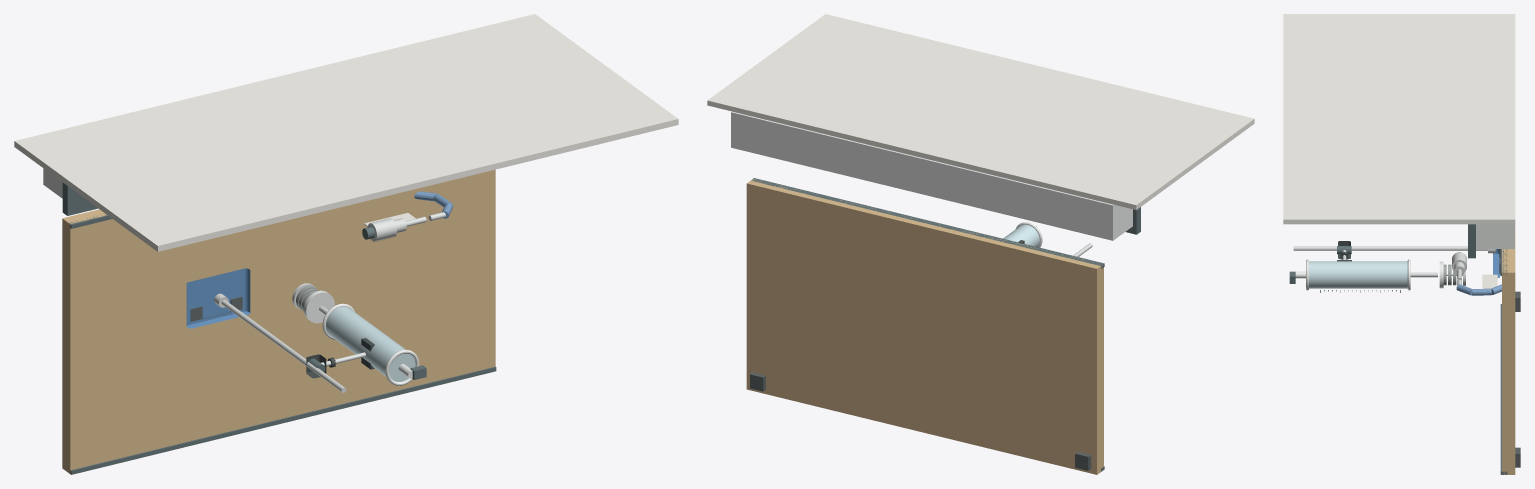
Rendered from rp08-boyle-syringe.glb.
3 renders of one model, left to right at view 1: azimuth 30°, elevation 25°; view 2: azimuth 150°, elevation 25°; view 3: azimuth 270°, elevation 25°, orthographic. The views are drawn at different scales.
Parts seen in each view (by area): view 1: Laboratory bench laminate, Laboratory background wall, Gas syringe transparent barrel, Boyle stand blue base, Laboratory bench dark edge, Boyle stand vertical rod, Syringe plunger flange; view 2: Laboratory bench laminate, Laboratory background wall, Laboratory background cabinet carcass, Laboratory bench rear edge; view 3: Laboratory background wall, Laboratory bench laminate, Gas syringe transparent barrel, Laboratory background cabinet carcass, Boyle stand vertical rod, Laboratory bench dark edge, Laboratory background worktop.
Part boxes in pixels (box(x1,y1,x2,y2)): Laboratory bench laminate: box(62, 169, 495, 473); Laboratory background wall: box(14, 14, 678, 251); Gas syringe transparent barrel: box(326, 306, 415, 381); Boyle stand blue base: box(186, 268, 250, 328); Laboratory bench dark edge: box(70, 366, 496, 474); Boyle stand vertical rod: box(221, 300, 346, 392); Syringe plunger flange: box(303, 290, 334, 323); Laboratory bench laminate: box(746, 179, 1103, 474); Laboratory background wall: box(707, 14, 1254, 209); Laboratory background cabinet carcass: box(731, 111, 1132, 240); Laboratory bench rear edge: box(751, 178, 1104, 268); Laboratory background wall: box(1283, 14, 1515, 224); Laboratory bench laminate: box(1502, 224, 1515, 474); Gas syringe transparent barrel: box(1309, 261, 1407, 288); Laboratory background cabinet carcass: box(1476, 224, 1514, 248); Boyle stand vertical rod: box(1293, 246, 1487, 250); Laboratory bench dark edge: box(1500, 304, 1507, 474); Laboratory background worktop: box(1468, 224, 1475, 258).
Bounding box in the file's own units: 10.9 × 6.78 × 5.32.
